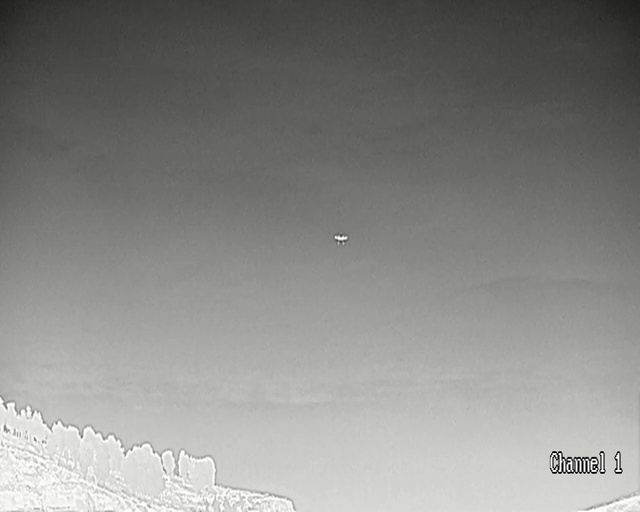uav: (334, 234, 347, 245)
